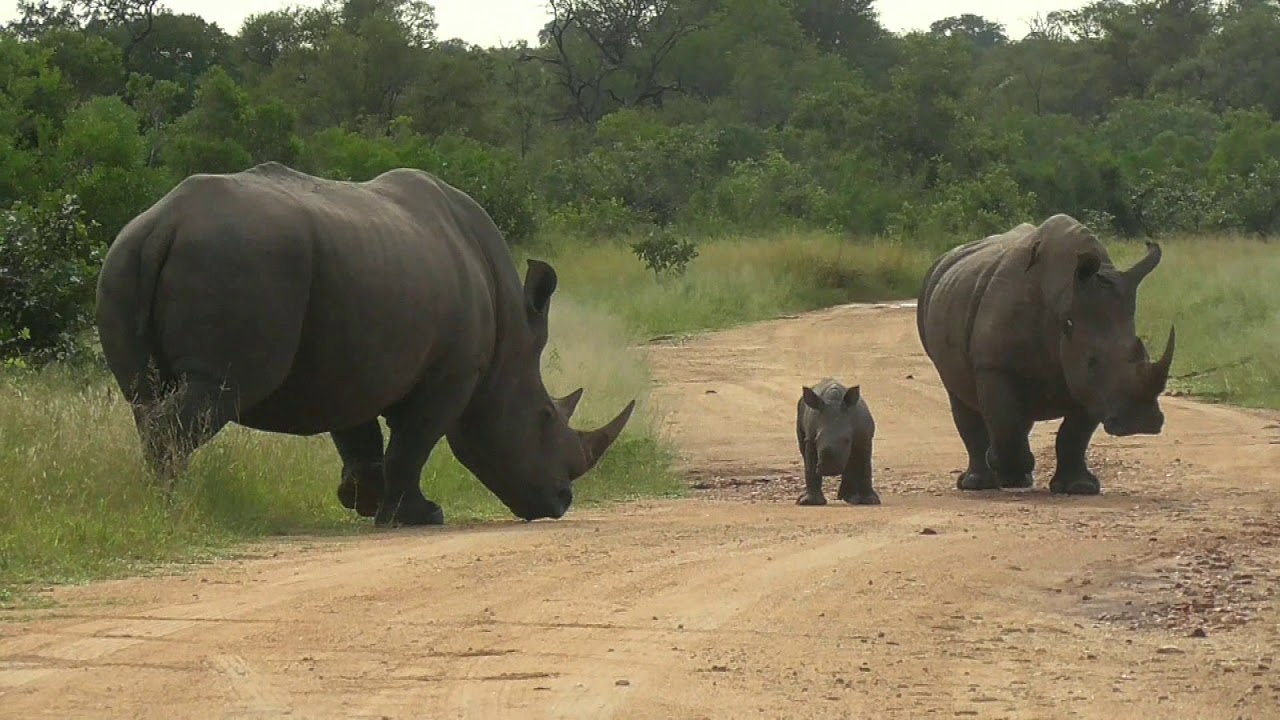rhino: (364, 347, 910, 718), (1048, 353, 1280, 639), (837, 440, 933, 571)
